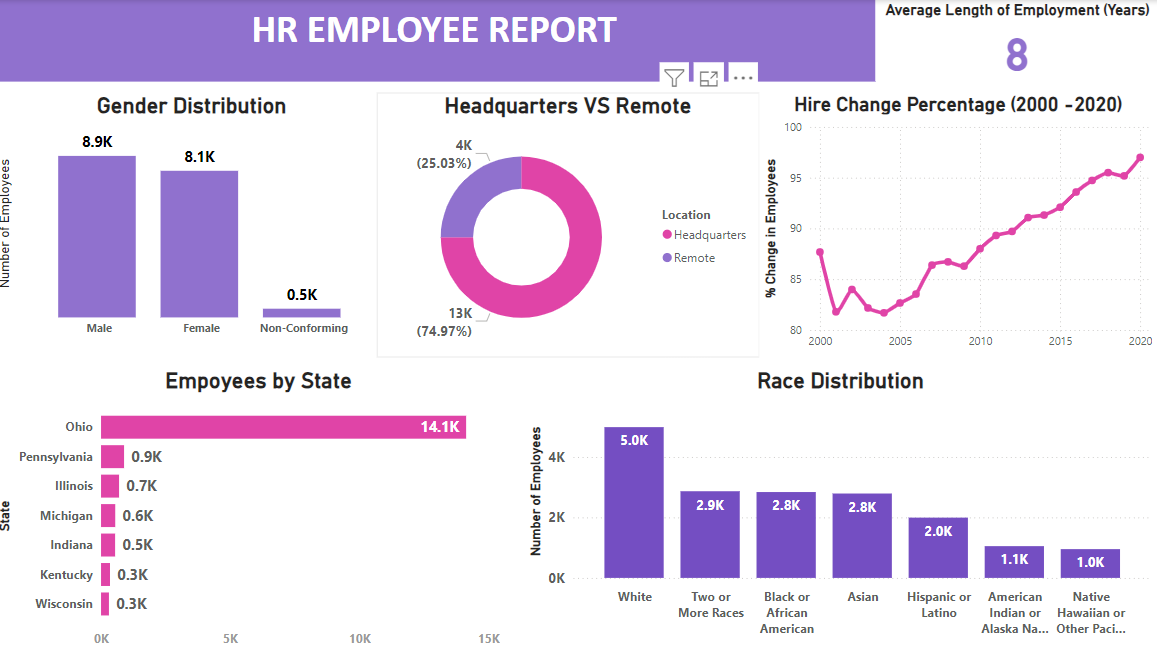

What the dashboard file says about the page in this screenshot:
{"tool":"powerbi","page":{"name":"Page 1","canvas":[1280,720],"ordinal":0},"visuals":[{"type":"textbox","box":[0,0,968.5,89.3],"z":0},{"type":"card","title":"Average Length of Employment (Years)","fields":{"Values":["Sum(avg_lenth_of_employment.avg_length_of_employment)"]},"box":[968.8,0,311.5,89.2],"z":1000},{"type":"columnChart","title":"Gender Distribution","fields":{"Y":["Sum(gender.count)"],"Category":["gender.gender"]},"box":[0,101.5,436.4,290.9],"z":2000},{"type":"donutChart","title":"Headquarters VS Remote","fields":{"Y":["Sum(location.count)"],"Category":["location.location"]},"box":[421.3,101.5,419.9,290.9],"z":3000},{"type":"lineChart","title":"Hire Change Percentage (2000 -2020)","fields":{"Y":["Sum(employee_change.net_change_percent)"],"Category":["employee_change.year"]},"box":[841.2,101.5,436.4,290.9],"z":4000},{"type":"barChart","title":"Empoyees by State","fields":{"Category":["state.location_state"],"Y":["Sum(state.count)"]},"box":[0,403.4,583.2,317],"z":5000},{"type":"clusteredColumnChart","title":"Race Distribution","fields":{"Y":["Sum(race.count)"],"Category":["race.race"]},"box":[583.2,403.4,694.3,317],"z":6000}]}

Visuals, with their boxes in screenshot pixels (x1, y1, x2, y2), scaled from the page's 1280x720 canvas onto the 1157x656 screenshot:
textbox: <bbox>0, 0, 875, 81</bbox>
"Average Length of Employment (Years)" card: <bbox>876, 0, 1156, 81</bbox>
"Gender Distribution" columnChart: <bbox>0, 92, 394, 358</bbox>
"Headquarters VS Remote" donutChart: <bbox>381, 92, 760, 358</bbox>
"Hire Change Percentage (2000 -2020)" lineChart: <bbox>760, 92, 1155, 358</bbox>
"Empoyees by State" barChart: <bbox>0, 368, 527, 655</bbox>
"Race Distribution" clusteredColumnChart: <bbox>527, 368, 1155, 655</bbox>
